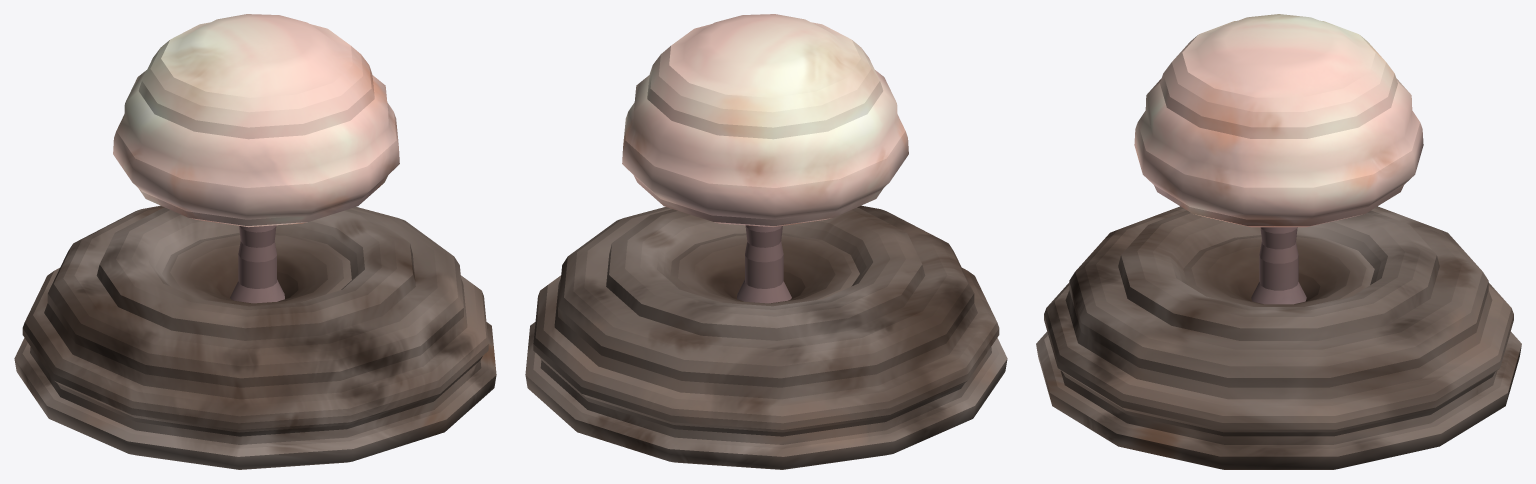
Rendered from nukecloud.FBX.
3 renders of one model, left to right at view 1: azimuth 30°, elevation 25°; view 2: azimuth 150°, elevation 25°; view 3: azimuth 270°, elevation 25°, orthographic.
Visible parts, largest first — view 1: Line001; view 2: Line001; view 3: Line001.
Boxes of the visible parts, box(x1,y1,x2,y2) form: Line001: box(14, 14, 496, 469); Line001: box(525, 14, 1007, 469); Line001: box(1036, 14, 1521, 469).
Bounding box in the file's own units: 1134 × 882 × 1142.
Materials: 1 (1 with a texture image).
